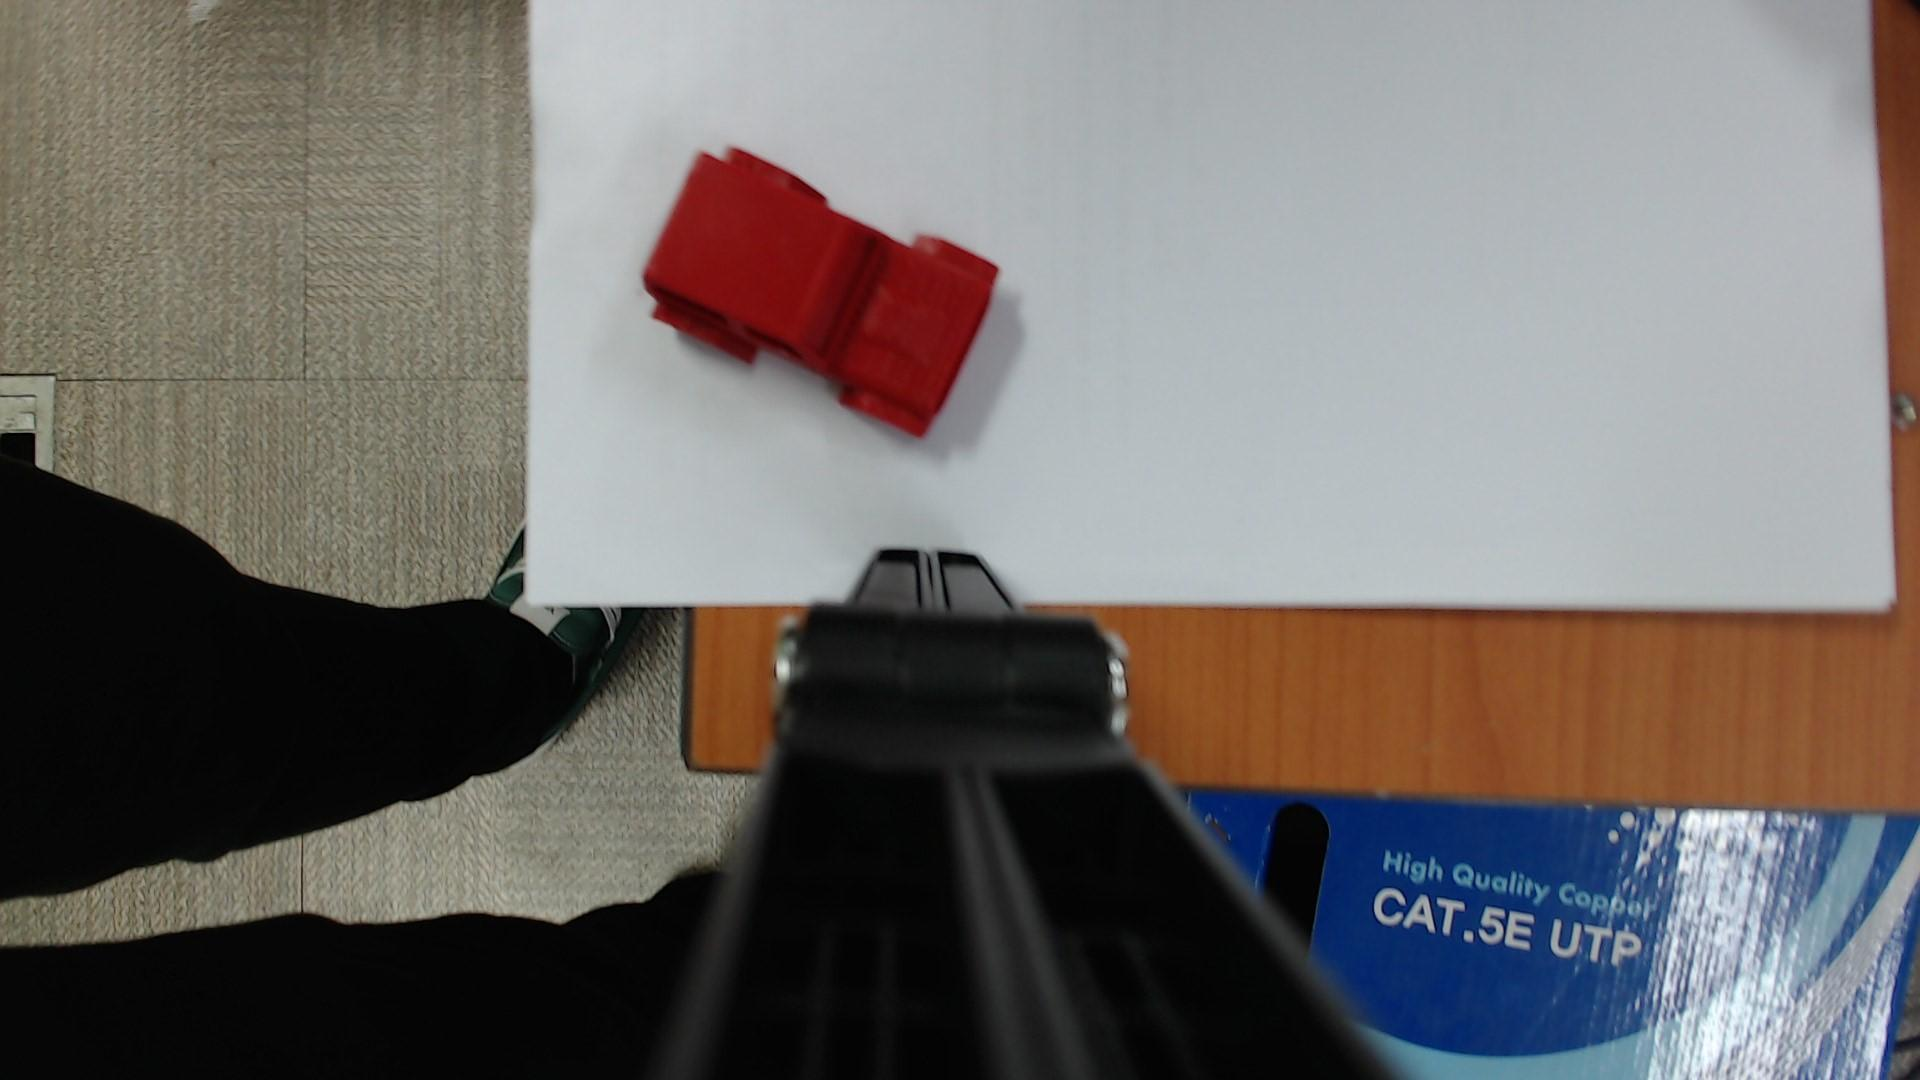Upper_ok: (642, 148, 997, 436)
